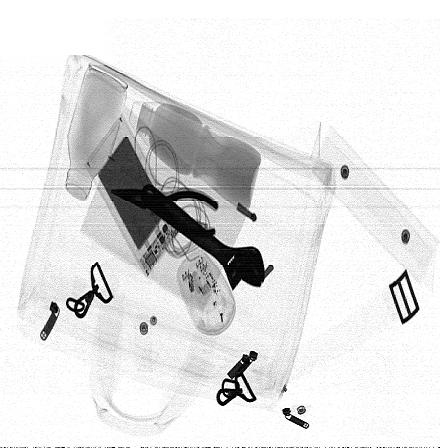Pliers: (109, 188, 222, 244)
Powerbank: (83, 110, 183, 275)
Wrench: (138, 184, 265, 292)
